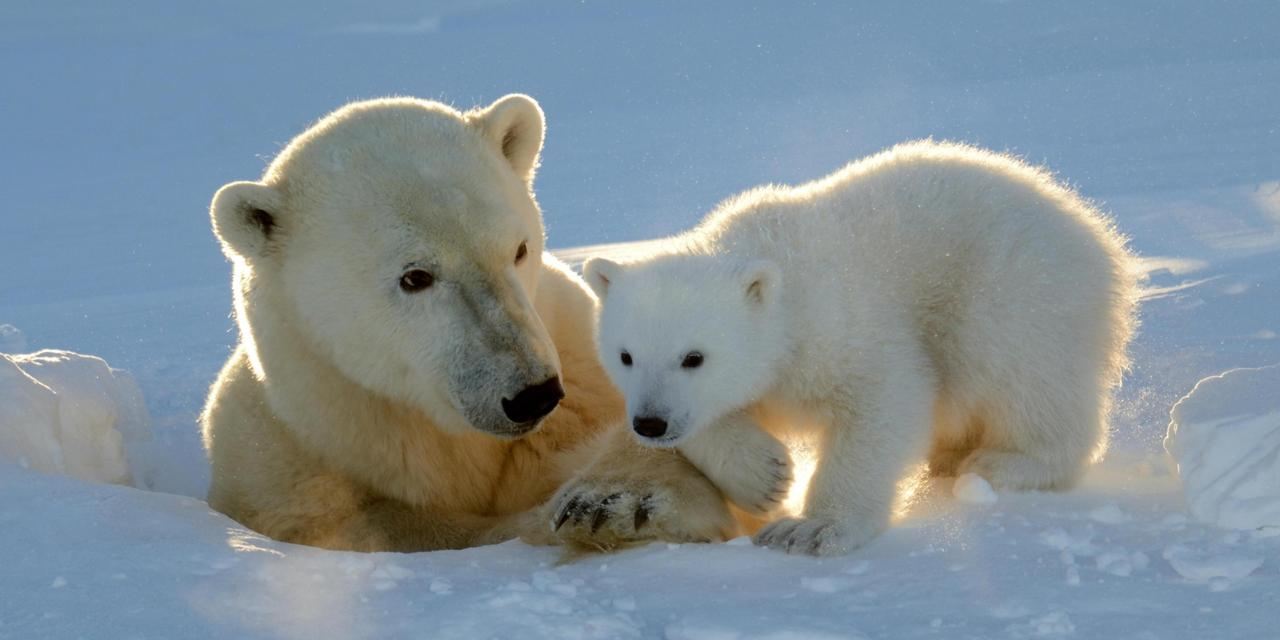Polar Bear: (581, 101, 1157, 566), (178, 65, 636, 588)
